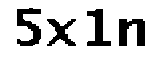1: (82, 5, 114, 51)
5: (11, 5, 42, 51)
n: (117, 16, 148, 52)
x: (45, 16, 78, 48)
